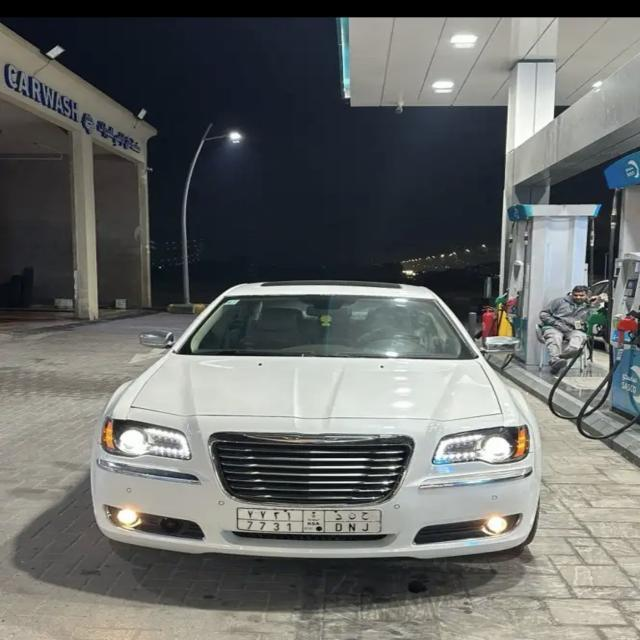license_plate: (238, 508, 386, 536)
